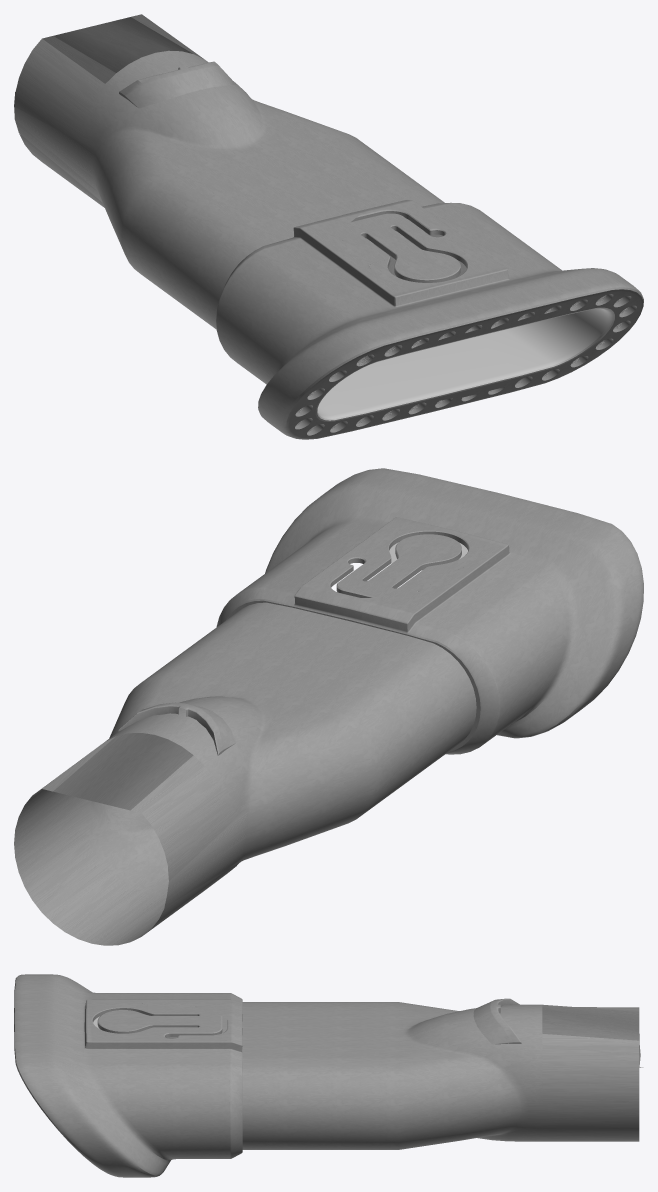
Rendered from NormalHead01.fbx.
3 views of the same model, one above another, from view 1: azimuth 30°, elevation 25°; view 2: azimuth 150°, elevation 25°; view 3: azimuth 270°, elevation 25° (orthographic). The views are drawn at different scales.
Parts seen in each view (by area): view 1: vm_HG2_048_vacuum; view 2: vm_HG2_048_vacuum; view 3: vm_HG2_048_vacuum.
Part boxes in pixels (<box>): vm_HG2_048_vacuum: <box>14,14,643,439</box>; vm_HG2_048_vacuum: <box>14,468,643,945</box>; vm_HG2_048_vacuum: <box>14,974,643,1177</box>.
Bounding box in the file's own units: 1.61 × 0.7491 × 3.3.
3 materials, 1 textured.
